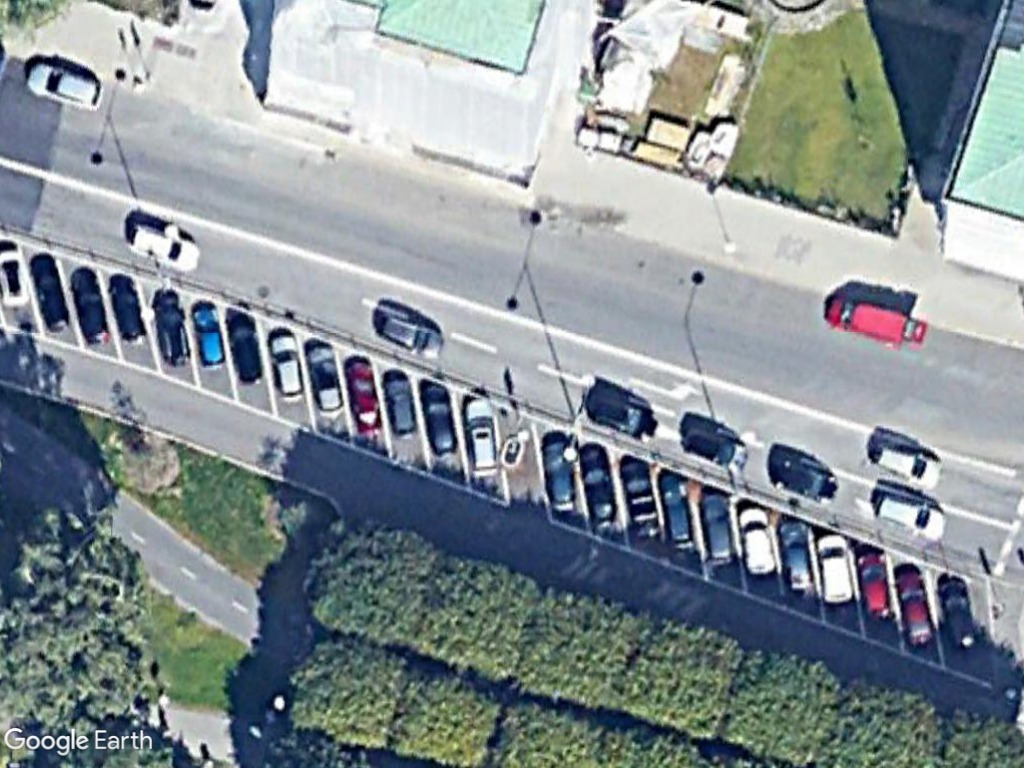car: (371, 300, 454, 371), (866, 475, 950, 545), (18, 55, 110, 116), (120, 216, 209, 279), (583, 382, 665, 447), (675, 418, 755, 481), (457, 391, 507, 485), (887, 561, 937, 651), (866, 437, 946, 492), (219, 303, 268, 392), (261, 325, 312, 408), (536, 429, 583, 518), (773, 511, 820, 598), (936, 571, 982, 659), (339, 351, 385, 439), (734, 501, 783, 583), (147, 286, 196, 368), (694, 485, 742, 568), (771, 451, 843, 505), (304, 335, 348, 422), (417, 379, 461, 464), (814, 524, 857, 610), (853, 544, 896, 626), (187, 298, 230, 372), (380, 366, 418, 439)
van: (821, 285, 916, 348)
